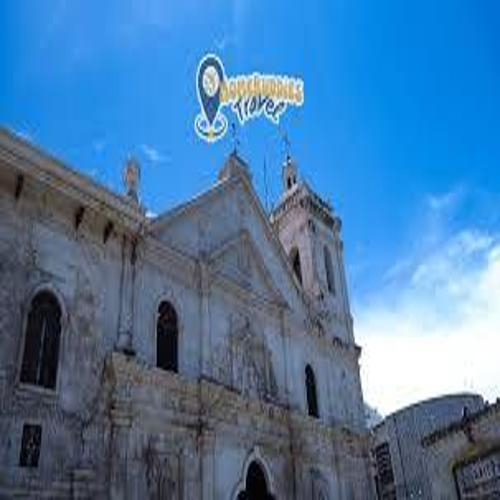Sto. Nino Basilica Church: (117, 132, 372, 500)
